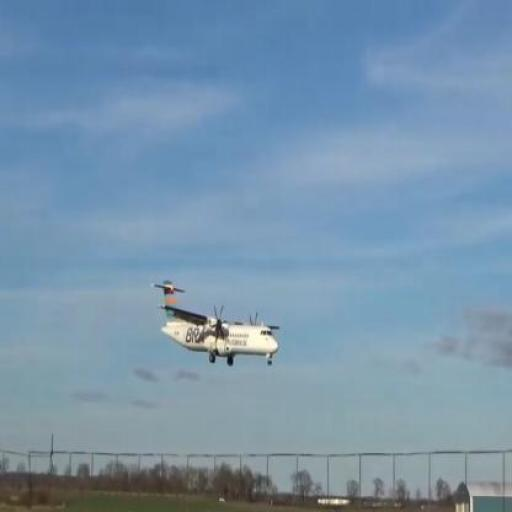aircraft: (153, 279, 281, 365)
